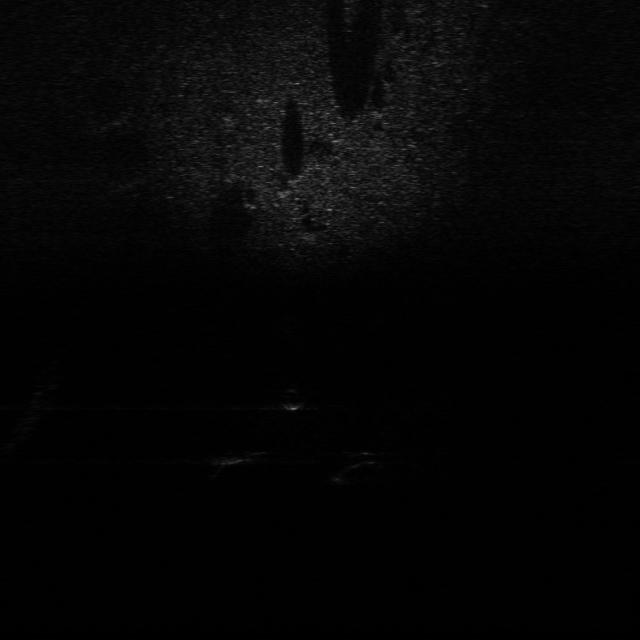ball: (278, 386, 312, 412)
square cage: (206, 444, 268, 471)
tyre: (324, 448, 388, 487)
